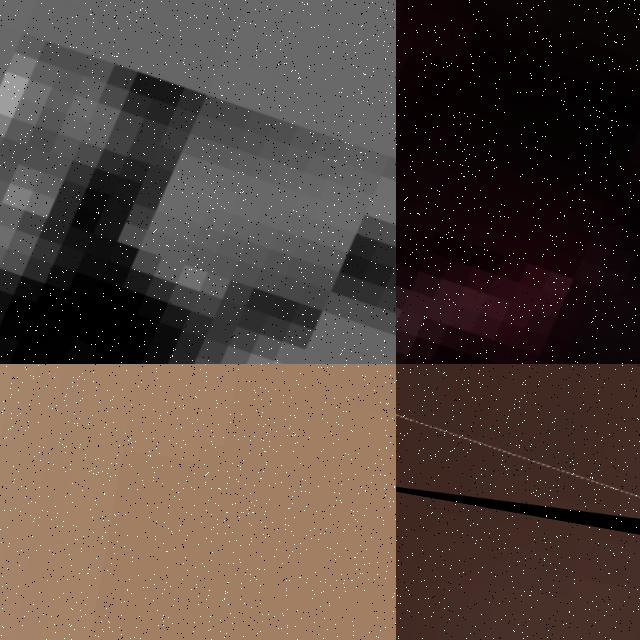0: (0, 0, 396, 364), (396, 0, 640, 364)
drone: (396, 364, 640, 588)
